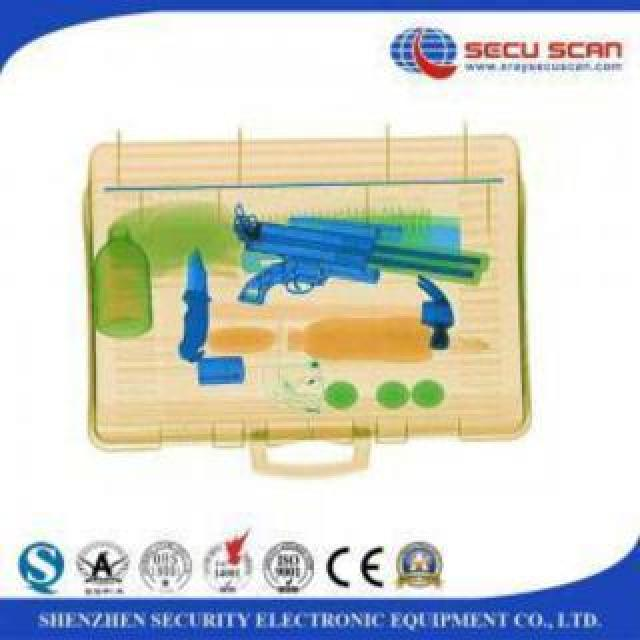gun: (222, 208, 490, 304)
knife: (174, 246, 210, 360)
